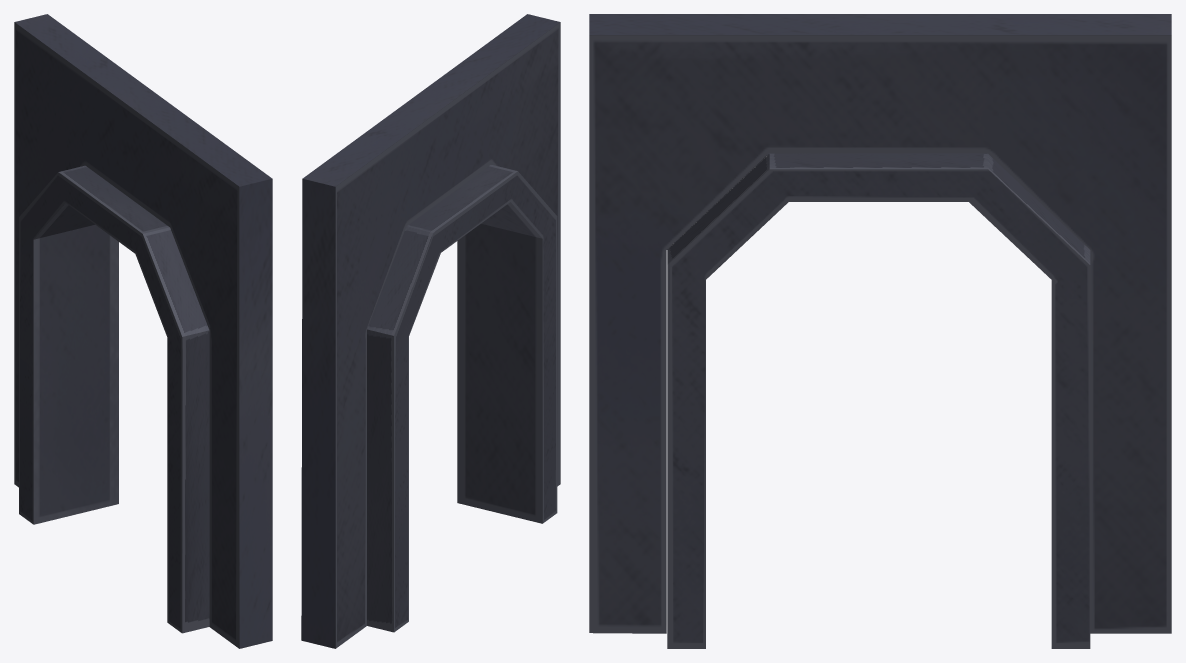
The model's file is door_FBX.fbx.
3 renders of one model, left to right at view 1: azimuth 30°, elevation 25°; view 2: azimuth 150°, elevation 25°; view 3: azimuth 270°, elevation 25°, orthographic. The views are drawn at different scales.
Visible parts, largest first — view 1: Plane.008, Plane.007; view 2: Plane.008, Plane.007; view 3: Plane.008, Plane.007.
Boxes of the visible parts, x1,y1,x2,y2 form: Plane.008: (14, 14, 272, 648); Plane.007: (19, 165, 209, 633); Plane.008: (301, 14, 560, 648); Plane.007: (367, 164, 557, 632); Plane.008: (589, 14, 1171, 633); Plane.007: (667, 153, 1090, 648).
Size of the model in its own units: 98.29 by 509 by 449.
